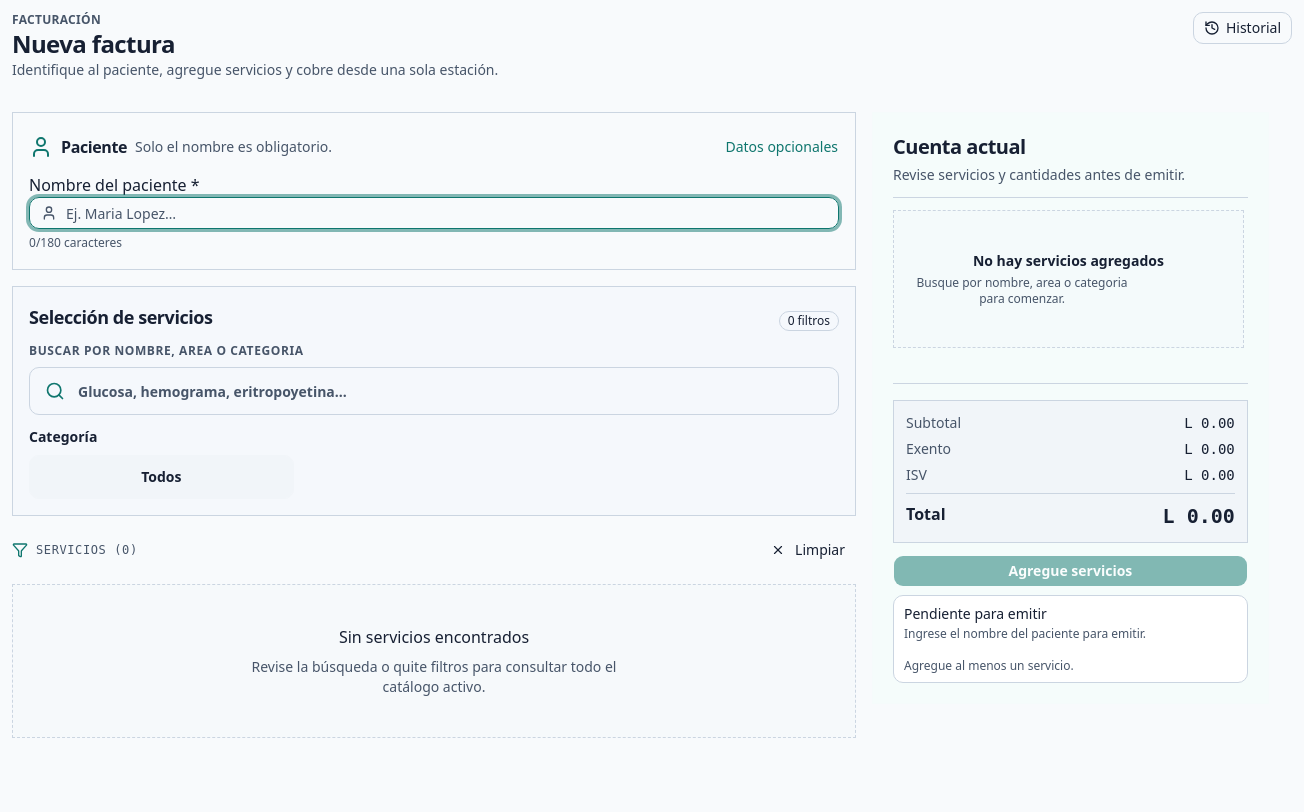
Test: NewInvoiceView critical flows › keeps the last service results visible after a search timeout and retries the current query
Type "eri" into the field labelled "Buscar por nombre, area o categoria". click: {"x": 434, "y": 391}
box: left=29, top=367, right=839, bottom=415
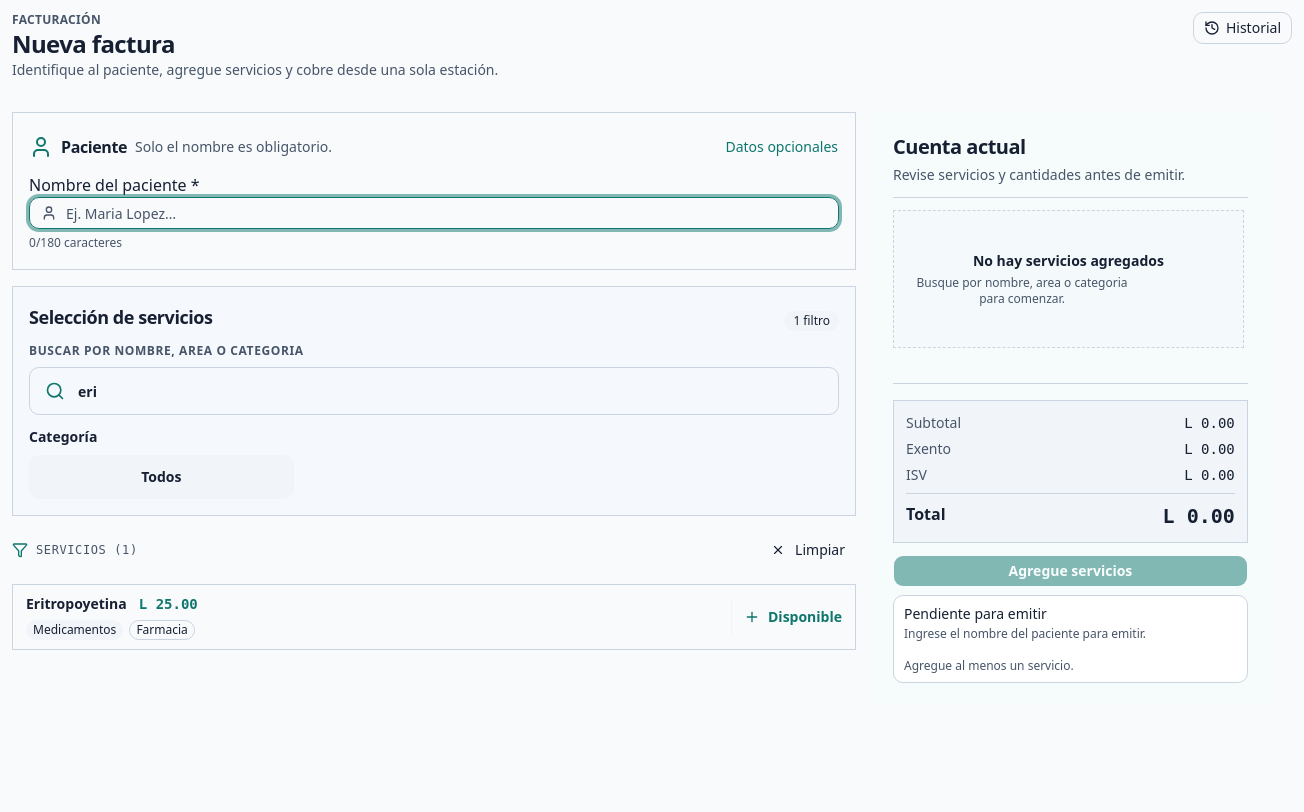
Expected: the button with aria-label "agregar eritropoyetina, disponible" is shown, left=13, top=585, right=855, bottom=649
Replace the text in the field labelled "Buscar por nombre, area o categoria" with "eritro". click: {"x": 434, "y": 391}
box: left=29, top=367, right=839, bottom=415
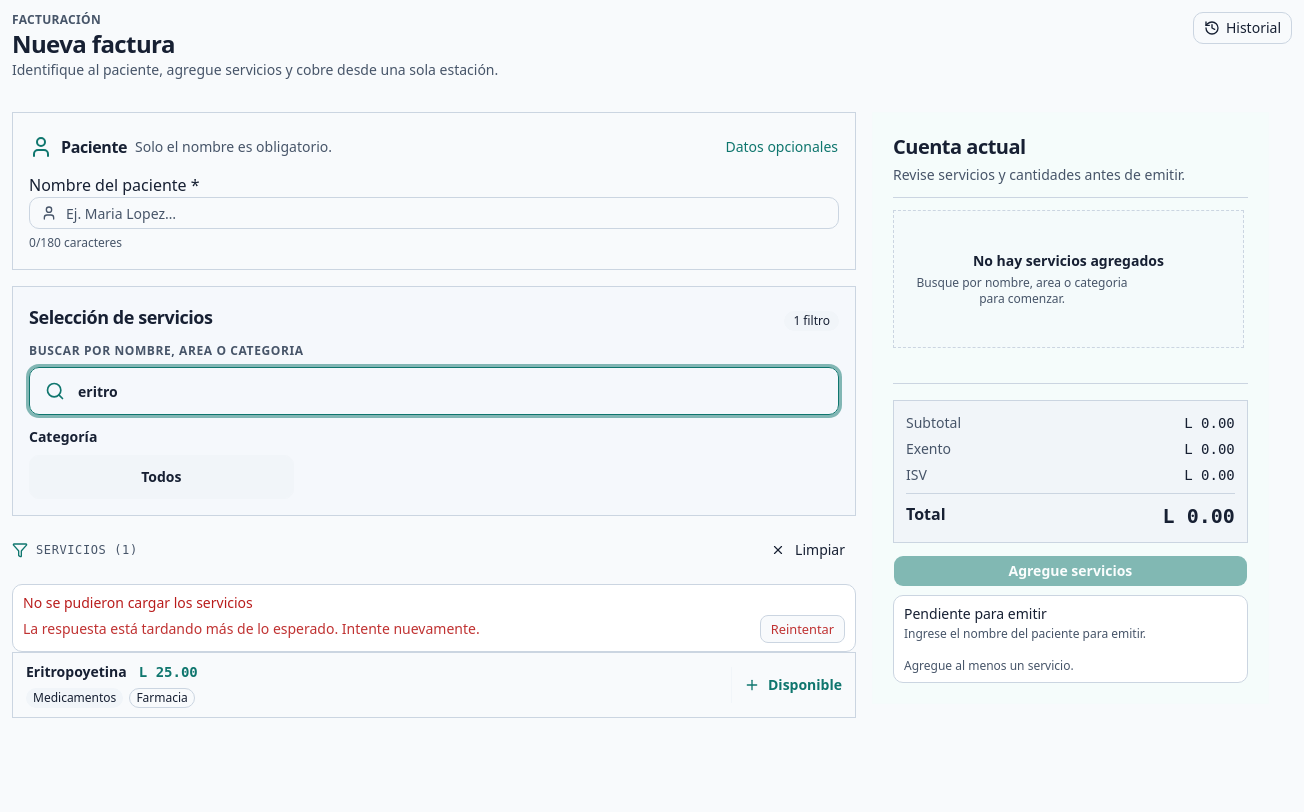
Expected: the text "Sin servicios encontrados" is not shown
Expected: the button with aria-label "agregar eritropoyetina, disponible" is shown, left=13, top=653, right=855, bottom=717
Expected: the text "No se pudieron cargar los servicios" is shown, left=23, top=593, right=253, bottom=612
Click the button "Reintentar". click: {"x": 802, "y": 629}
box: left=760, top=615, right=845, bottom=643
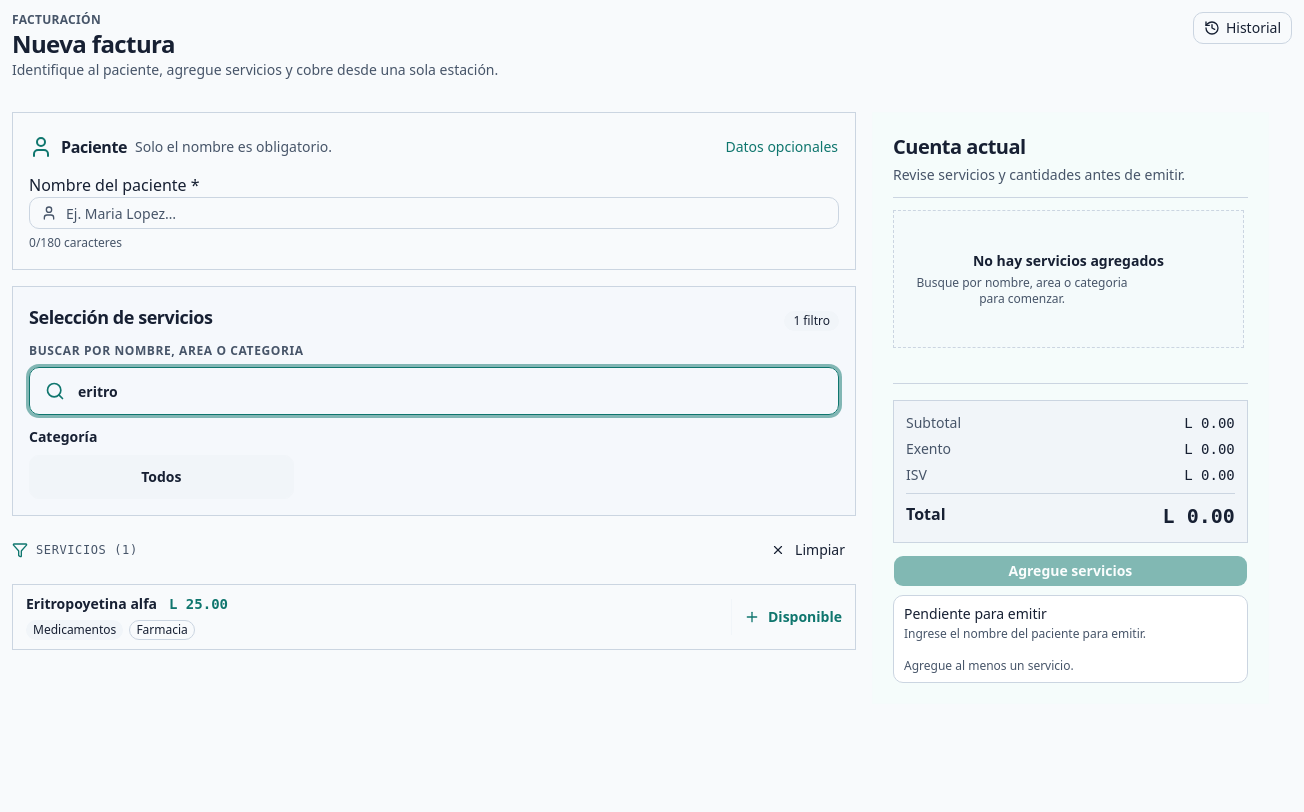
Expected: the button with aria-label "agregar eritropoyetina alfa, disponible" is shown, left=13, top=585, right=855, bottom=649
Expected: the text "No se pudieron cargar los servicios" is gone
